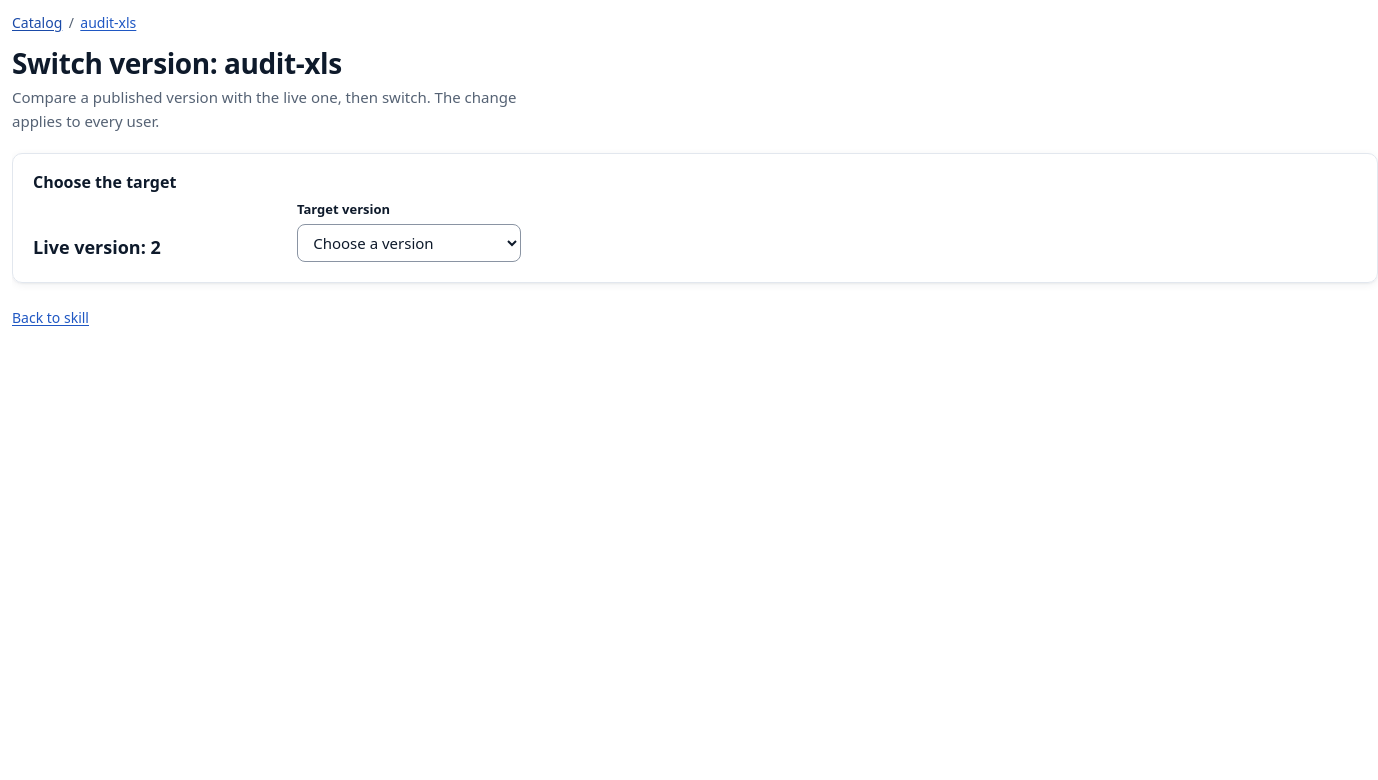
Test: Switch › shows live against target verdicts and the pass rate change
Select "v1" in the dropdown labelled "Target version": {"x": 409, "y": 242} [297,224,521,262]
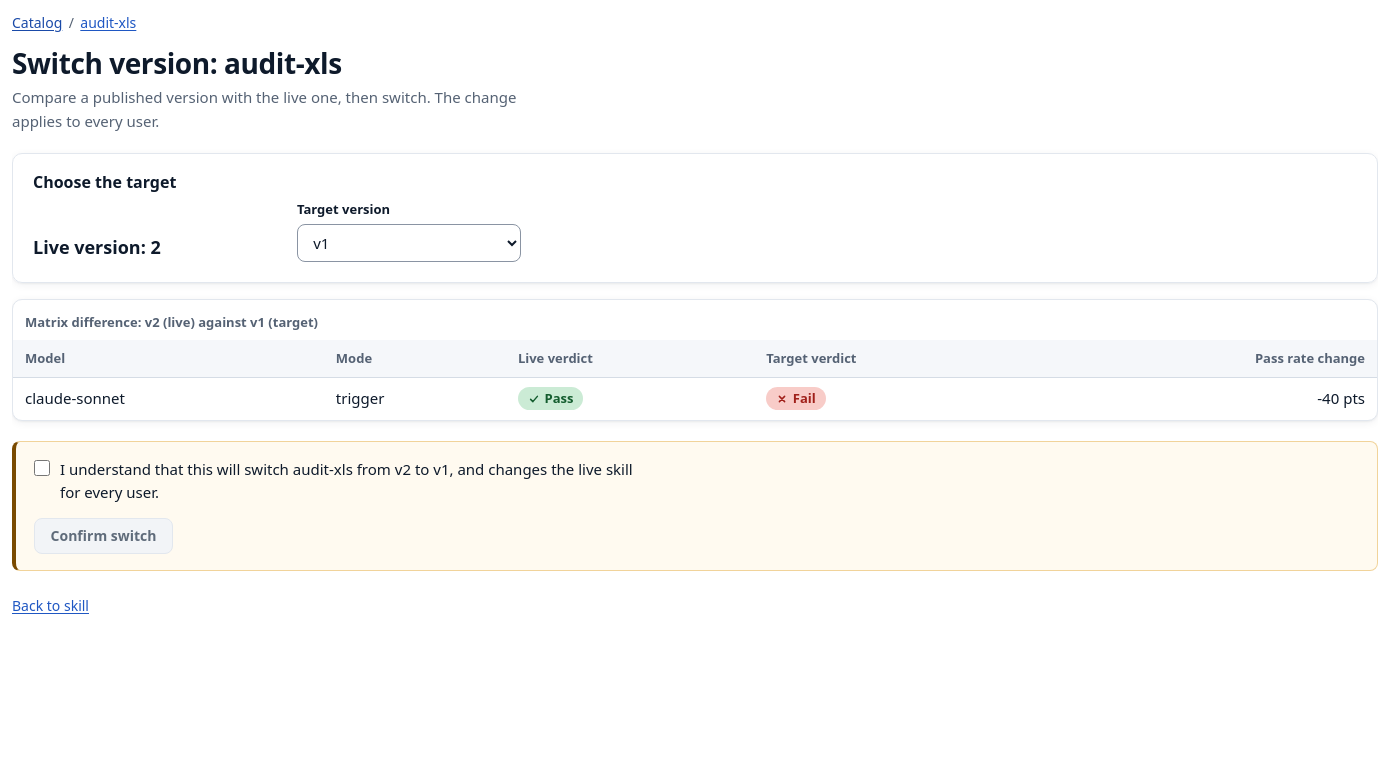
Expected: the text "Pass" is shown, [544,389,574,408]
Expected: the text "Fail" is shown, [793,389,816,408]
Expected: the text "-40 pts" is shown, [1041,378,1377,420]
